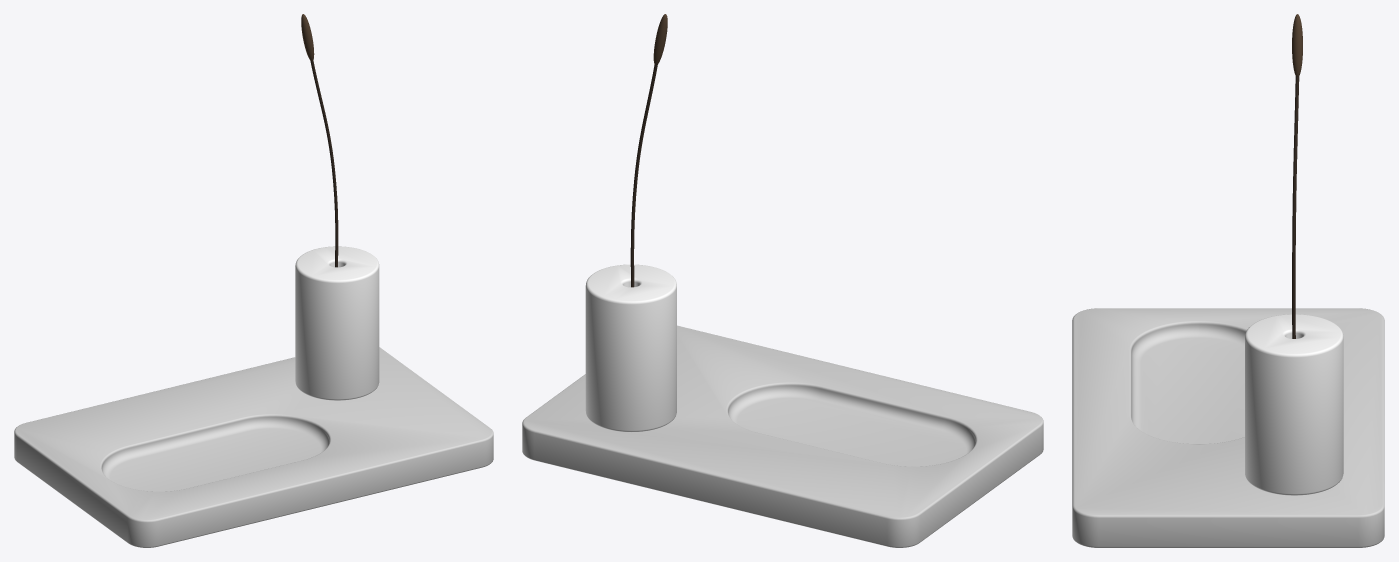
3 renders of one model, left to right at view 1: azimuth 30°, elevation 25°; view 2: azimuth 150°, elevation 25°; view 3: azimuth 270°, elevation 25°, orthographic. The views are drawn at different scales.
Visible parts, largest first — view 1: tray, vase, stem; view 2: tray, vase, stem; view 3: tray, vase, stem, head.
Part boxes in pixels (x1,y1,x2,y2): tray: (14,347,493,547); vase: (295,246,379,400); stem: (310,60,338,267); tray: (522,325,1043,547); vase: (585,264,676,432); stem: (630,64,657,287); tray: (1072,308,1384,547); vase: (1245,314,1343,495); stem: (1292,76,1299,338); head: (1292,14,1302,76).
Size of the model in its own units: 3 by 3.19 by 1.9.
